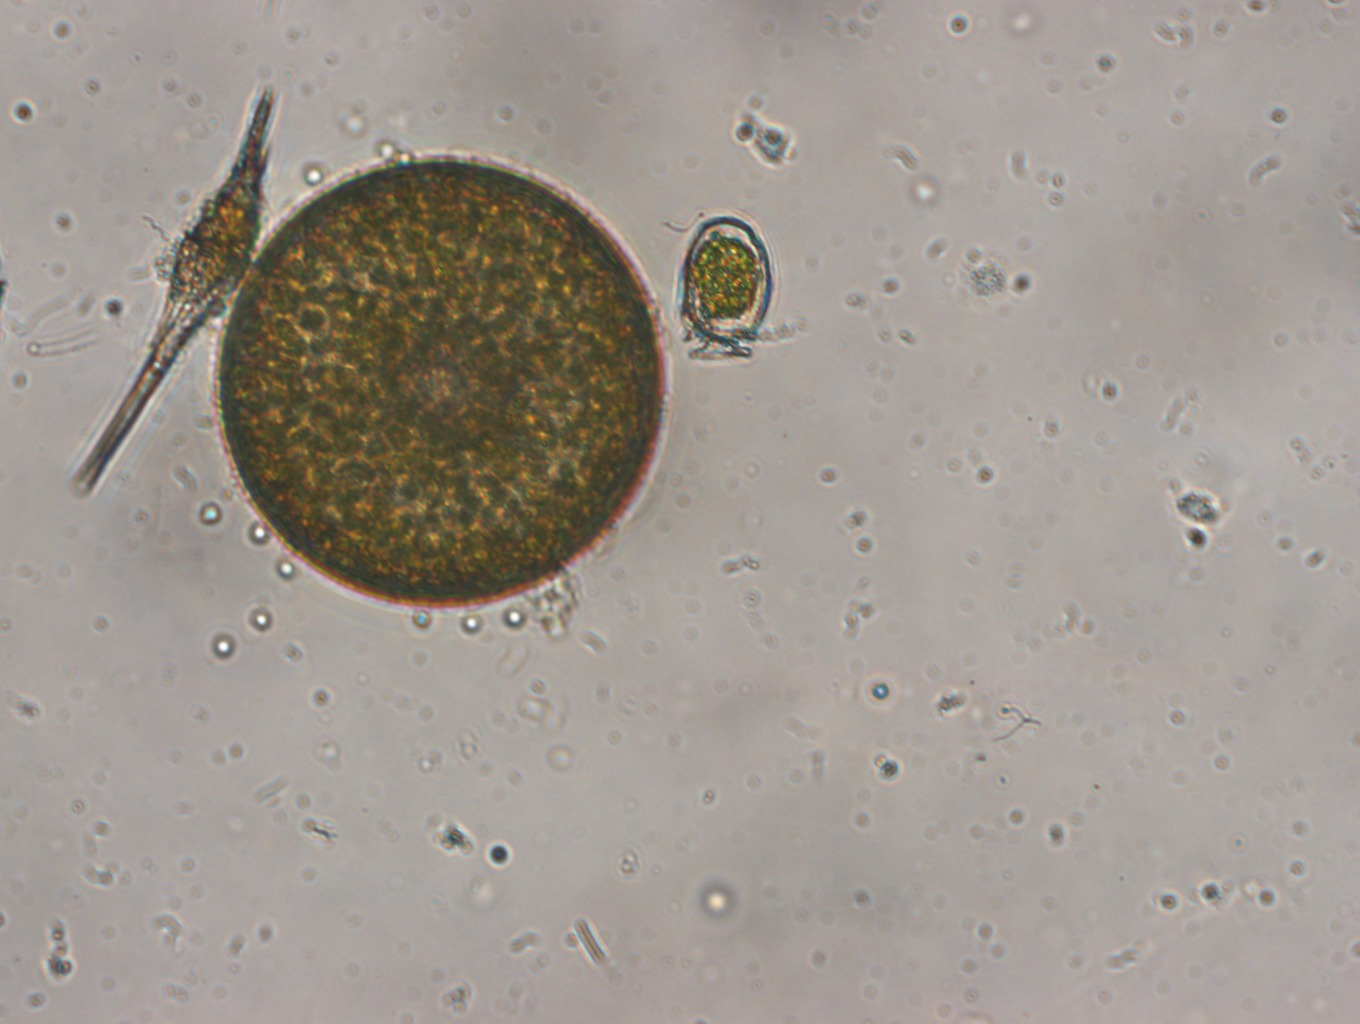ceratium furca: (68, 86, 276, 501)
coscinodiscus: (211, 145, 678, 623)
